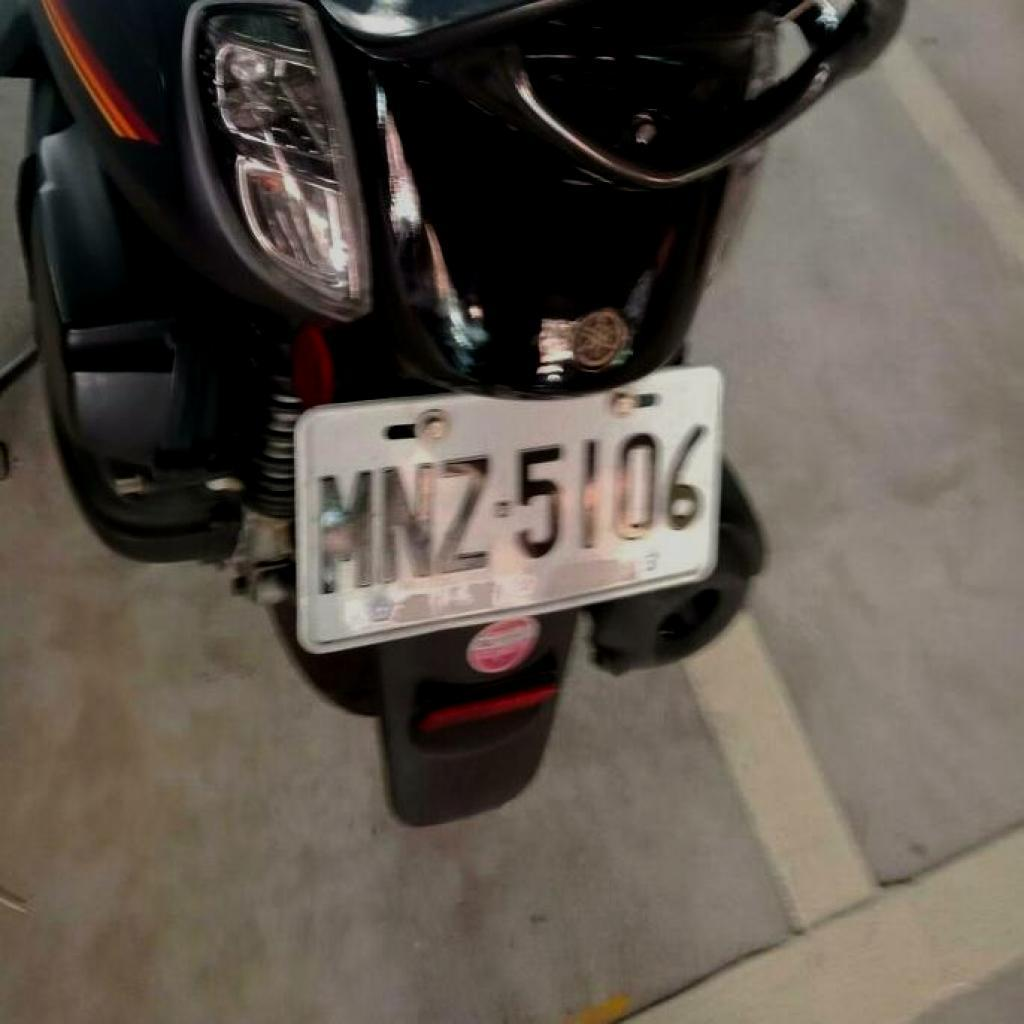placa de veiculo: (254, 346, 797, 648)
